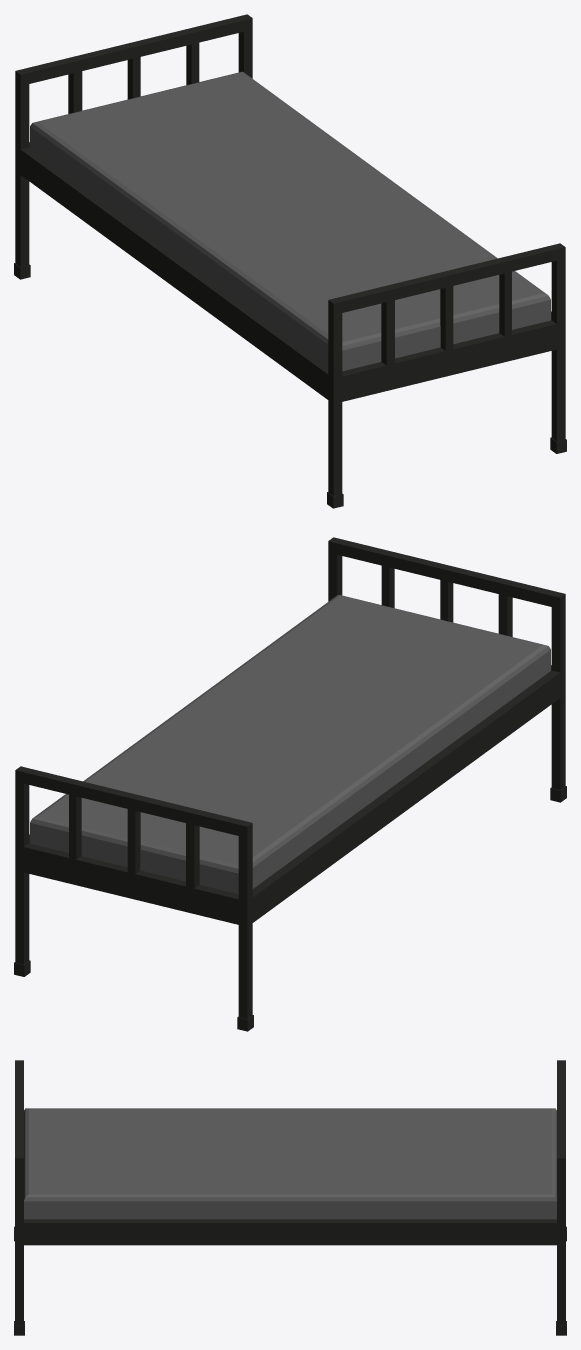
The model's file is Bed_01.fbx.
3 views of the same model, one above another, from view 1: azimuth 30°, elevation 25°; view 2: azimuth 150°, elevation 25°; view 3: azimuth 270°, elevation 25° (orthographic). The views are drawn at different scales.
Visible parts, largest first — view 1: Bed_01; view 2: Bed_01; view 3: Bed_01.
Part boxes in pixels (x1,y1,x2,y2): Bed_01: (14, 14, 566, 508); Bed_01: (14, 537, 566, 1031); Bed_01: (14, 1060, 566, 1335).
Bounding box in the file's own units: 98.23 × 82.01 × 232.
